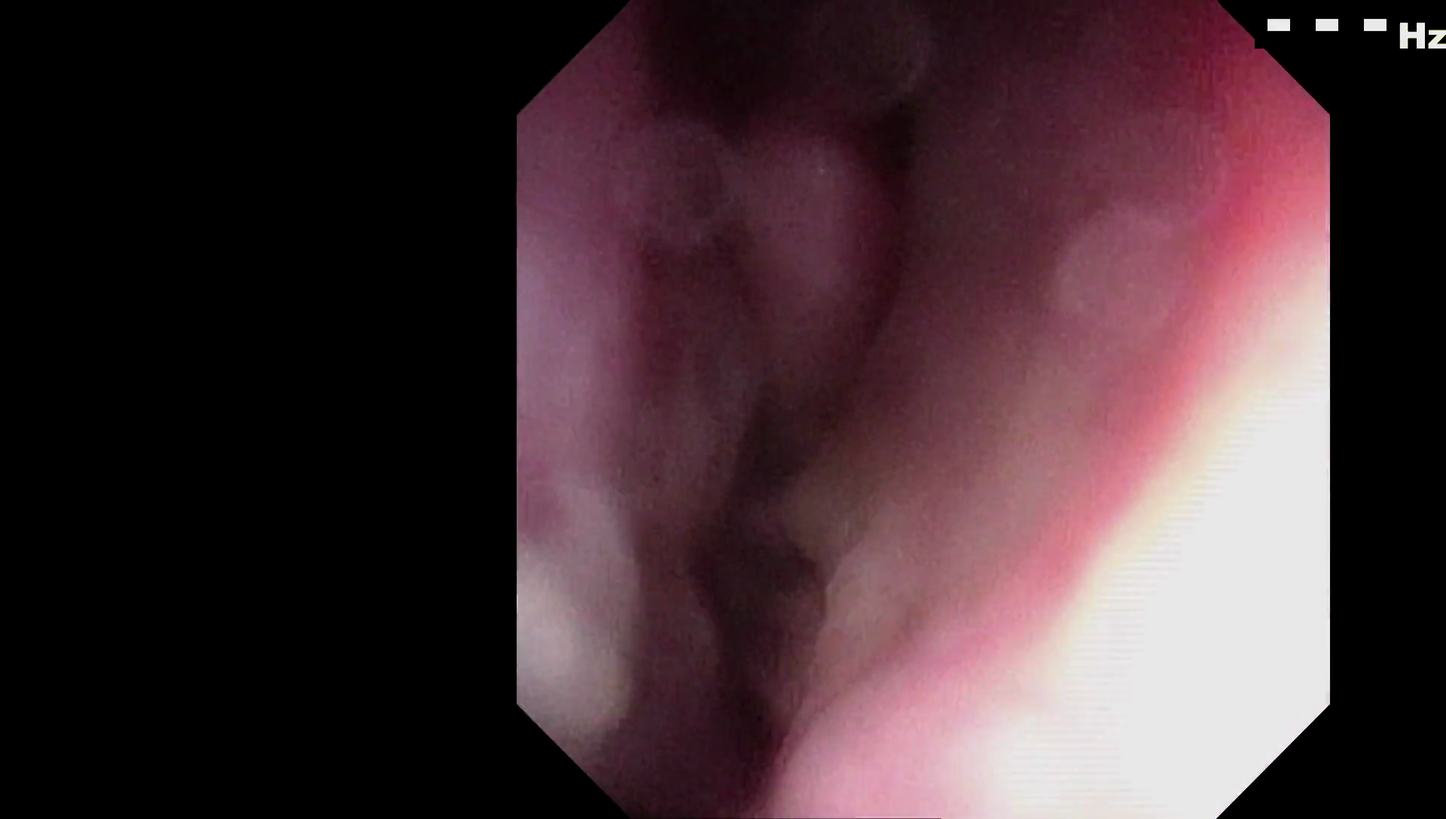close_wall: (888, 316, 1317, 703)
next: (654, 352, 858, 775), (623, 7, 845, 138)
